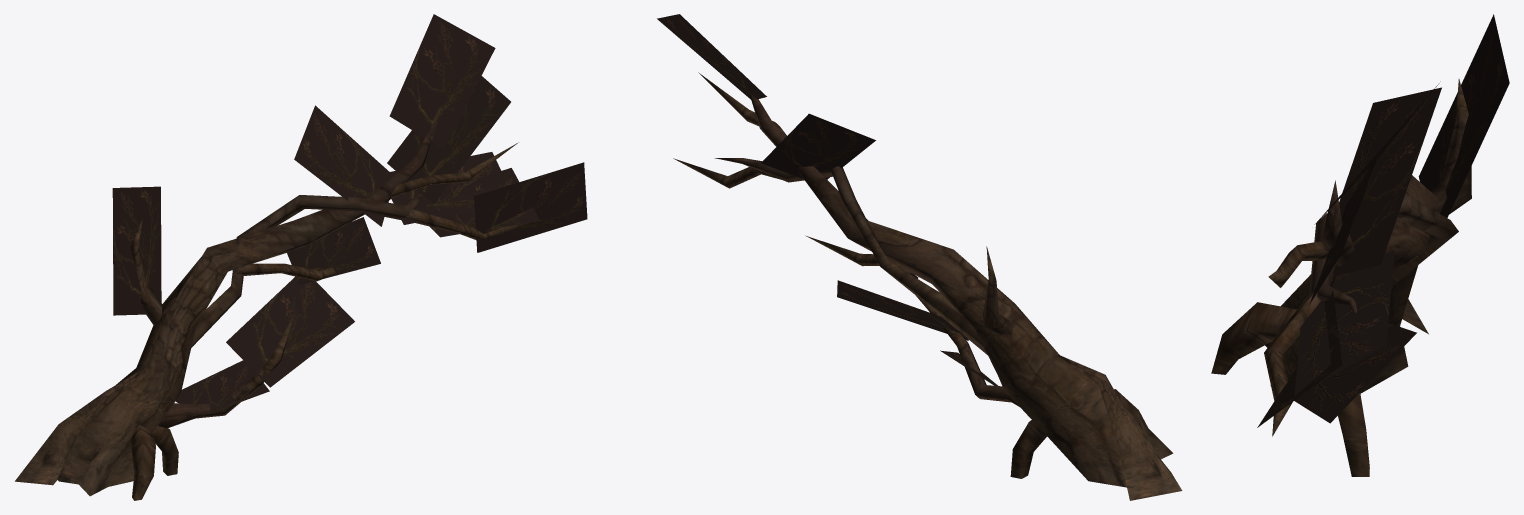
The model's file is yw_yanmenguan_kushu01.FBX.
3 views of the same model, side by side, from view 1: azimuth 30°, elevation 25°; view 2: azimuth 150°, elevation 25°; view 3: azimuth 270°, elevation 25° (orthographic). The views are drawn at different scales.
Visible parts, largest first — view 1: yw_yanmenguan_kushu01; view 2: yw_yanmenguan_kushu01; view 3: yw_yanmenguan_kushu01.
Part boxes in pixels (x1=…): yw_yanmenguan_kushu01: x1=15, y1=14, x2=587, y2=500; yw_yanmenguan_kushu01: x1=657, y1=14, x2=1182, y2=500; yw_yanmenguan_kushu01: x1=1211, y1=14, x2=1509, y2=476.
Bounding box in the file's own units: 576 × 375 × 160.
